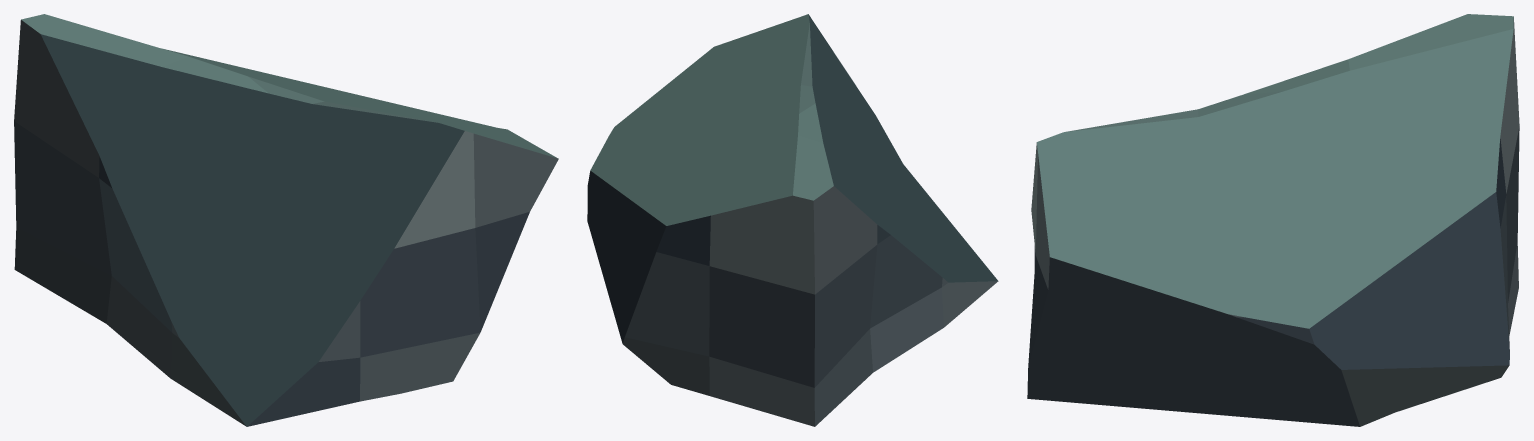
3 views of the same model, side by side, from view 1: azimuth 30°, elevation 25°; view 2: azimuth 150°, elevation 25°; view 3: azimuth 270°, elevation 25° (orthographic). The views are drawn at different scales.
Visible parts, largest first — view 1: sea_rock_pillar; view 2: sea_rock_pillar; view 3: sea_rock_pillar.
Part boxes in pixels (box(x1,y1,x2,y2)): sea_rock_pillar: box(14, 14, 558, 426); sea_rock_pillar: box(587, 14, 998, 426); sea_rock_pillar: box(1027, 14, 1519, 426).
Bounding box in the file's own units: 1.36 × 0.9127 × 1.48.
